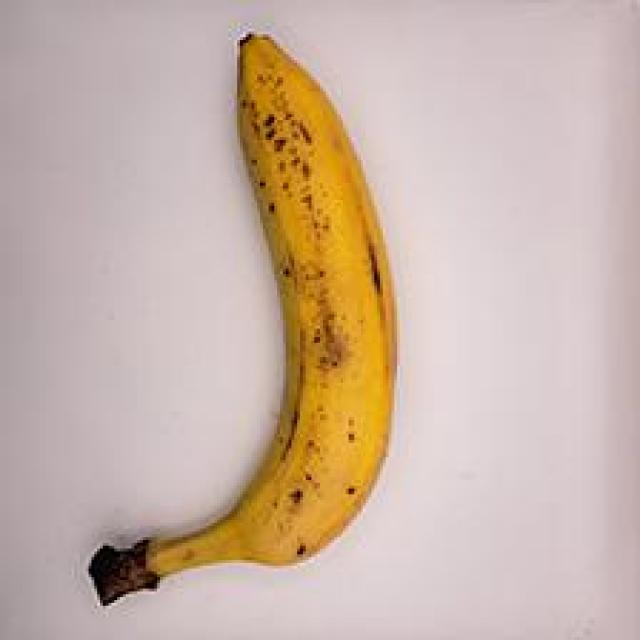Overripe: (52, 11, 408, 608)
